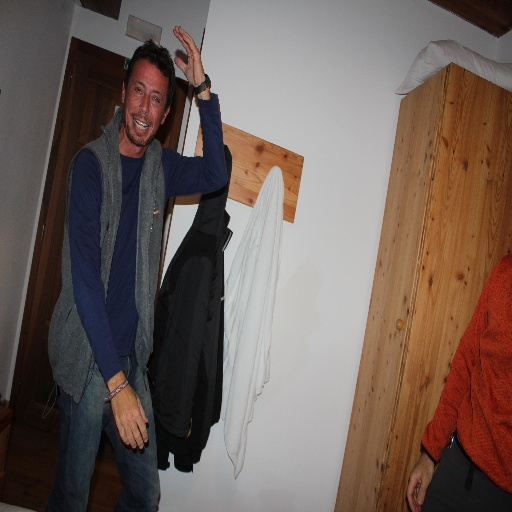hand: (94, 364, 149, 452), (173, 25, 206, 89), (405, 451, 437, 511)
